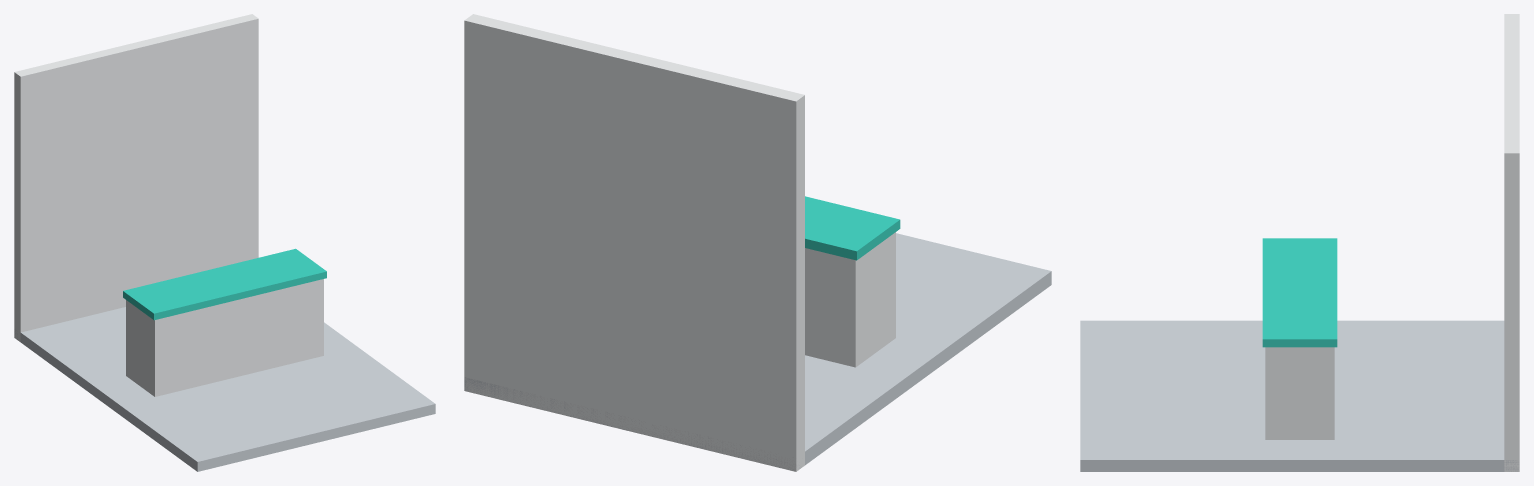
3 renders of one model, left to right at view 1: azimuth 30°, elevation 25°; view 2: azimuth 150°, elevation 25°; view 3: azimuth 270°, elevation 25°, orthographic. The views are drawn at different scales.
Parts seen in each view (by area): view 1: Exhibition Booth Concept; view 2: Exhibition Booth Concept; view 3: Exhibition Booth Concept.
Part boxes in pixels (<box>): Exhibition Booth Concept: <box>14,14,435,471</box>; Exhibition Booth Concept: <box>464,14,1051,471</box>; Exhibition Booth Concept: <box>1080,14,1519,471</box>.
Size of the model in its own units: 3 by 3.2 by 4.
